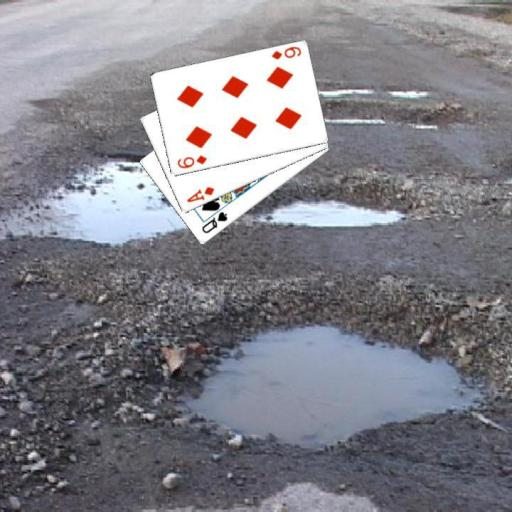6D: (175, 152, 209, 170), (268, 44, 302, 62)
AD: (184, 184, 216, 204)
QS: (198, 209, 229, 236)
